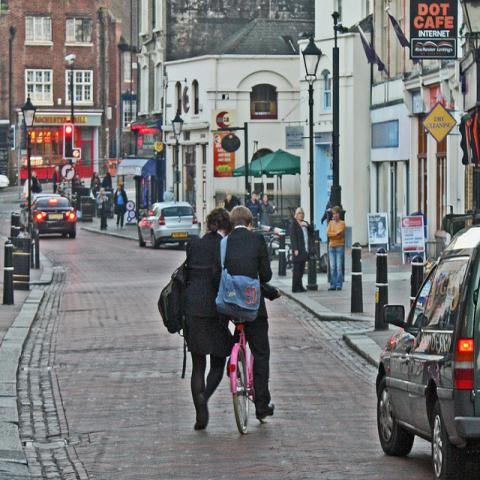car: (371, 217, 480, 474), (137, 201, 201, 250), (26, 196, 76, 239), (0, 174, 10, 188)
